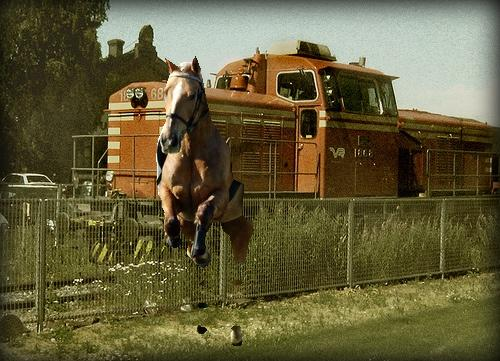tampered: (157, 57, 253, 346)
